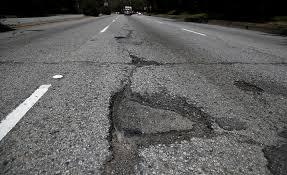crack: (0, 59, 287, 65)
pothole: (103, 81, 219, 175), (261, 140, 287, 175), (120, 51, 163, 69), (234, 79, 265, 96)
